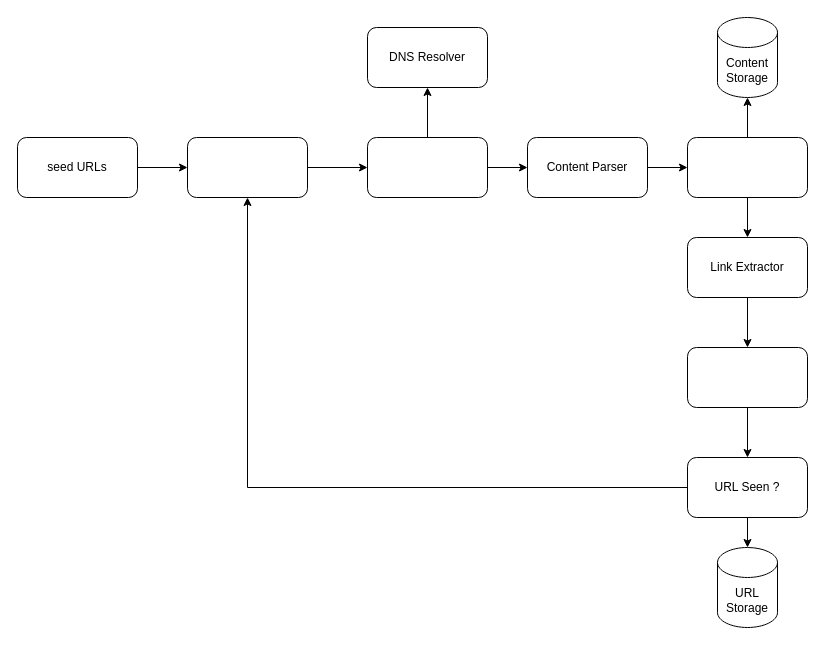
This 825x645 diagram has some shape labels left out. Each missing label, with the centre of its shape:
Content Seen ?: (x=747, y=167)
HTML Downloader: (x=427, y=167)
URL Filter: (x=747, y=377)
URL frontier: (x=247, y=167)
